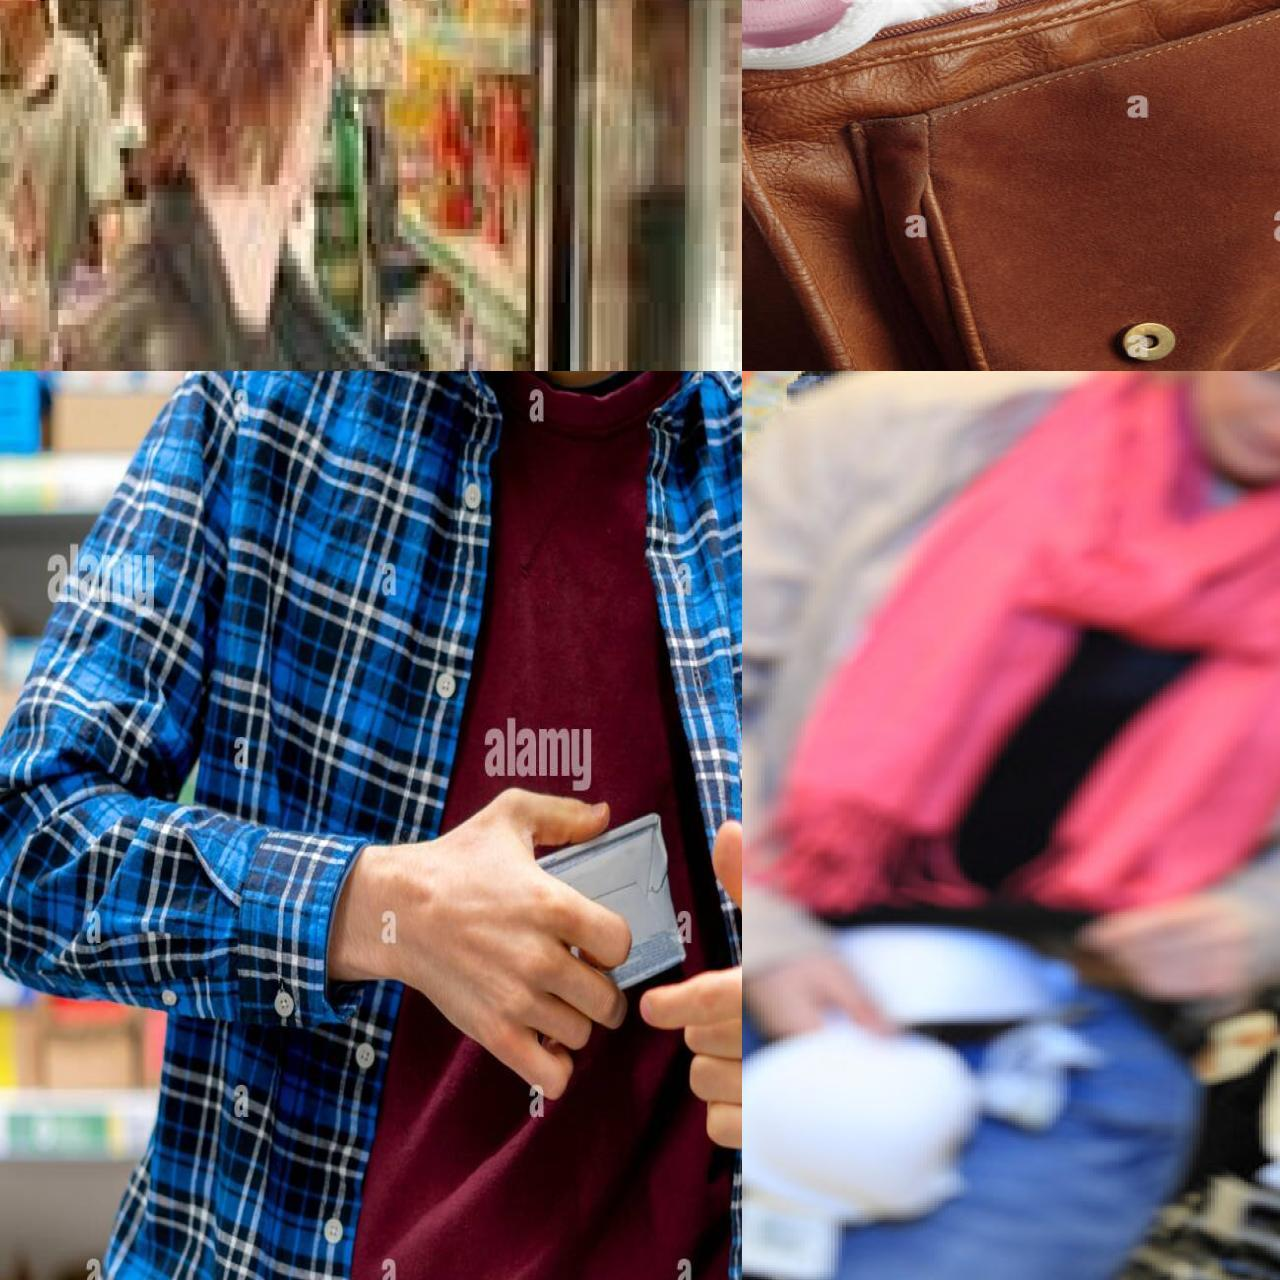Shoplifting: (137, 372, 742, 1280), (742, 372, 1280, 1280), (102, 96, 676, 372), (742, 0, 1280, 229)
